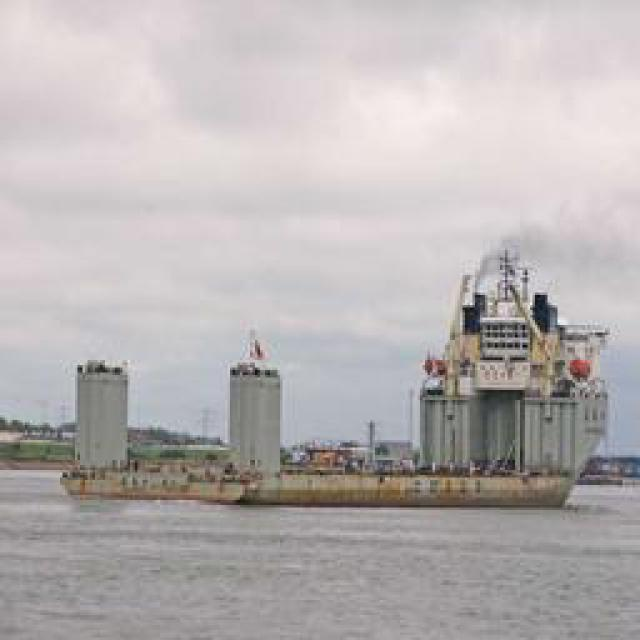Ship: (397, 237, 625, 487)
